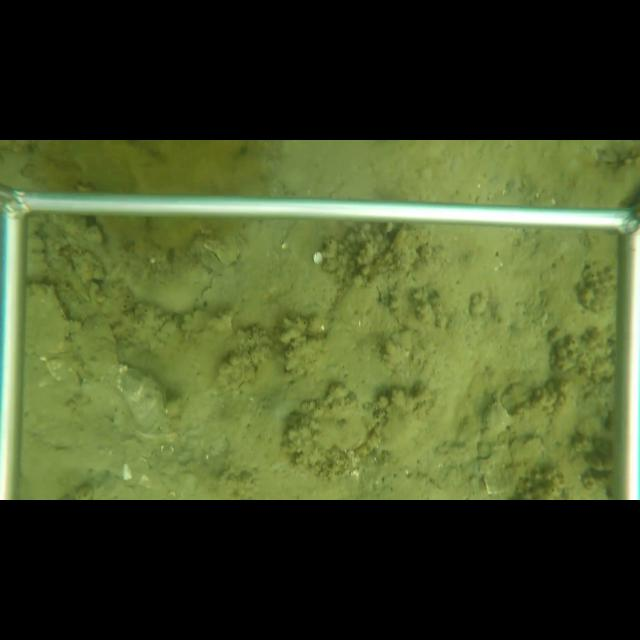Oyster-Closed: (287, 399, 391, 473), (25, 281, 82, 360), (72, 310, 124, 390), (119, 364, 168, 435), (478, 401, 513, 456), (193, 233, 241, 268)
